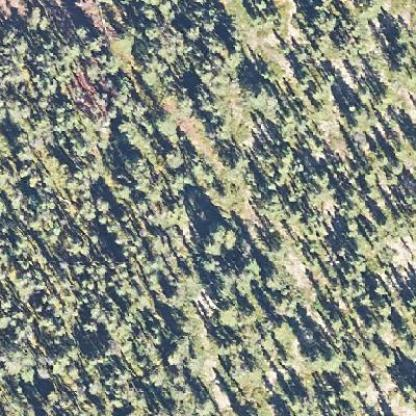tree-top: (1, 340, 37, 382), (117, 149, 155, 182), (12, 268, 44, 300), (272, 292, 302, 320), (149, 109, 180, 136), (201, 218, 232, 245), (242, 81, 268, 108), (214, 302, 240, 326), (264, 233, 289, 257), (90, 193, 110, 214)
